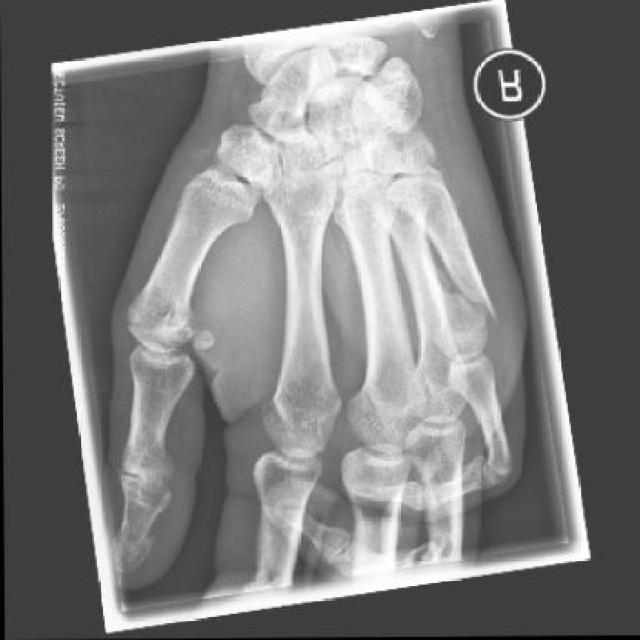Fracture: (431, 277, 501, 353)
